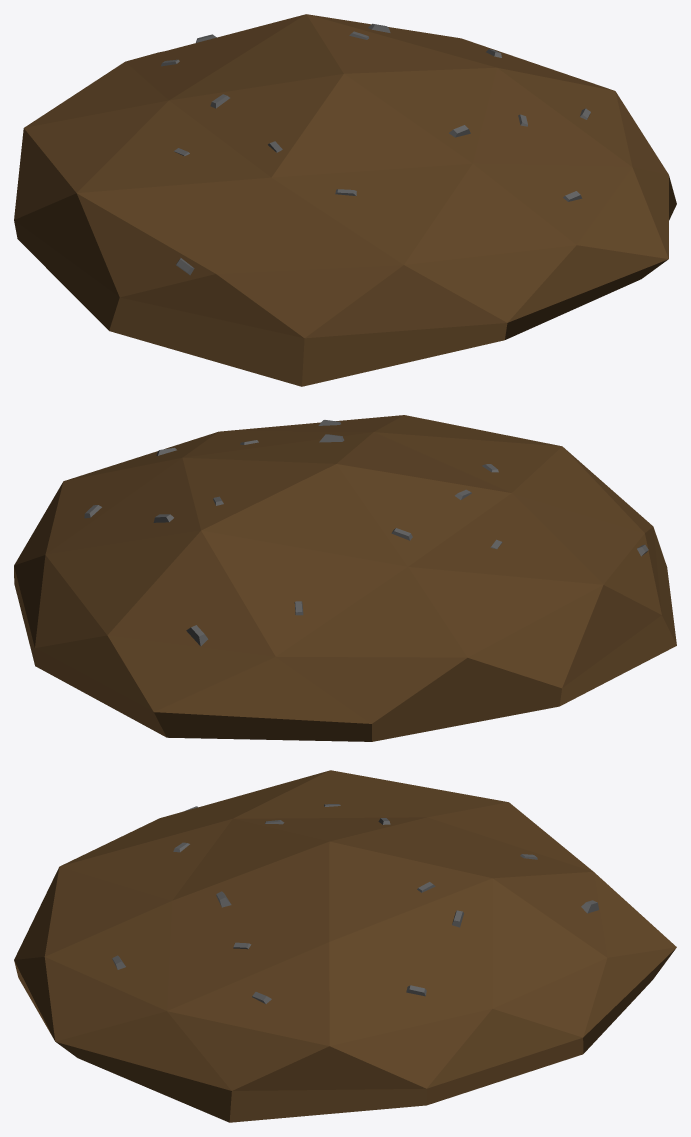
The model's file is Burger_Bread.obj.
3 views of the same model, one above another, from view 1: azimuth 30°, elevation 25°; view 2: azimuth 150°, elevation 25°; view 3: azimuth 270°, elevation 25° (orthographic). The views are drawn at different scales.
Visible parts, largest first — view 1: Burger_Bread_Icosphere.001; view 2: Burger_Bread_Icosphere.001; view 3: Burger_Bread_Icosphere.001.
Boxes of the visible parts, left/top/right/bottom form: Burger_Bread_Icosphere.001: left=14, top=14, right=676, bottom=386; Burger_Bread_Icosphere.001: left=14, top=415, right=676, bottom=741; Burger_Bread_Icosphere.001: left=14, top=770, right=676, bottom=1122.
Size of the model in its own units: 1.48 by 0.4047 by 1.58.
